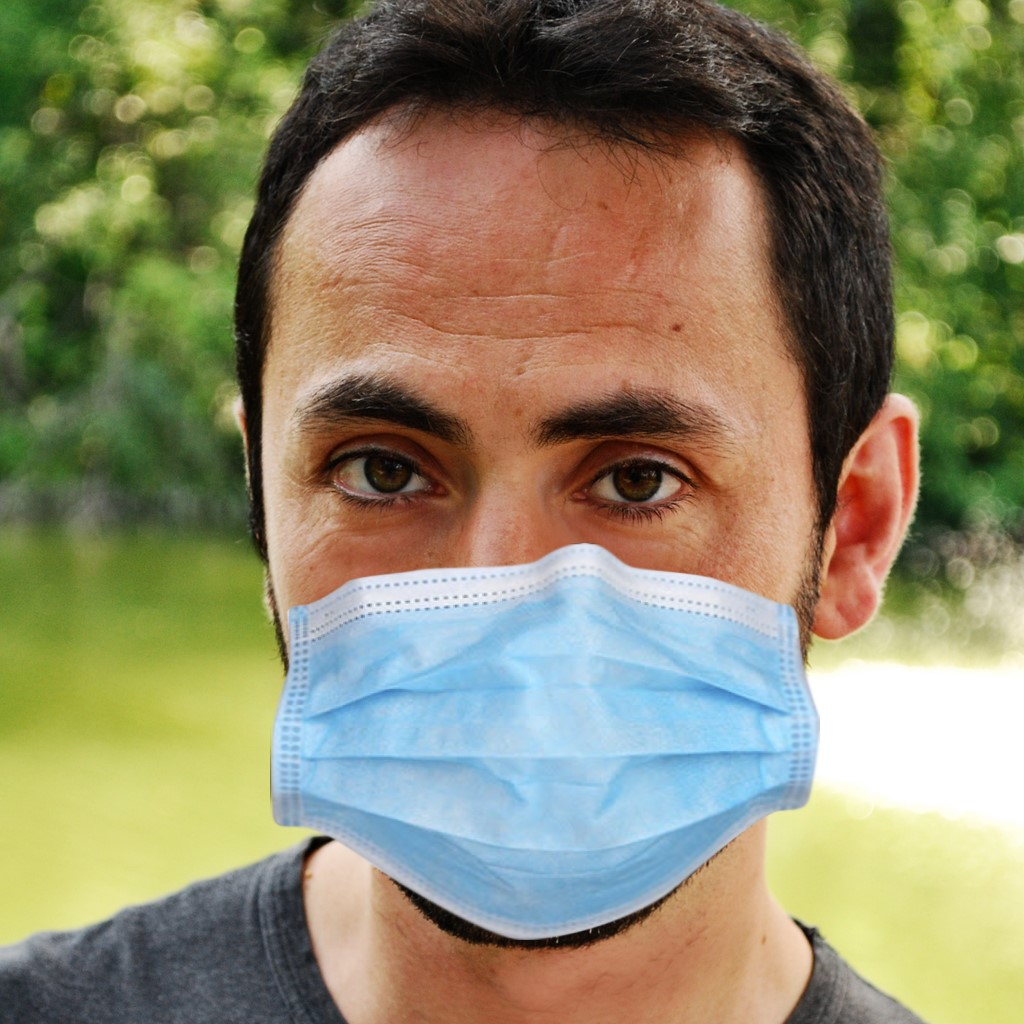con_mascara: (239, 60, 848, 939)
